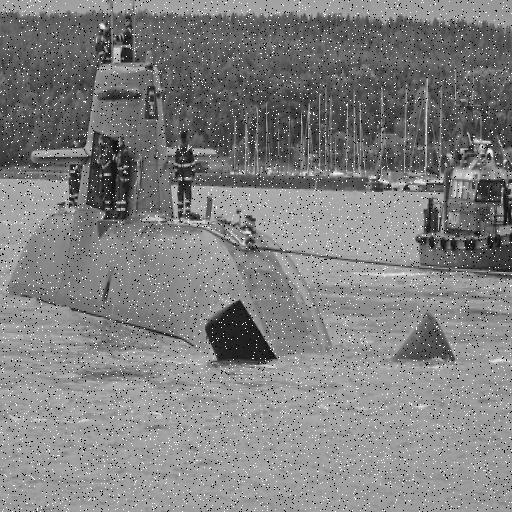submarine: (7, 62, 459, 365)
